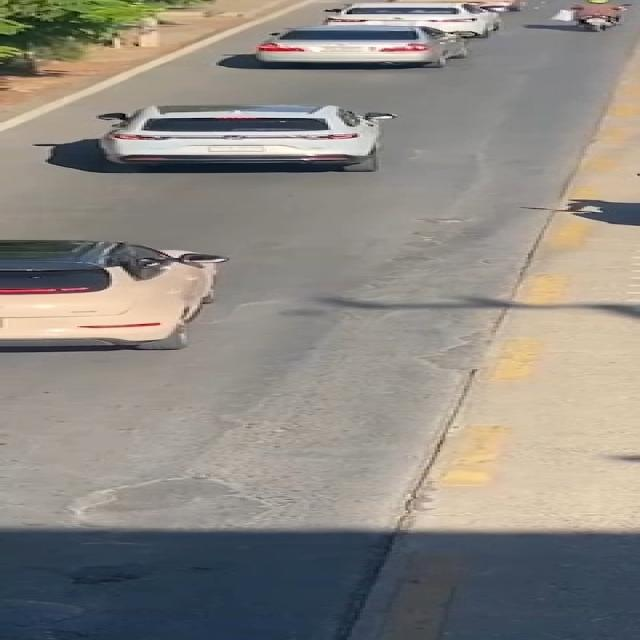car: (0, 226, 255, 368), (65, 96, 461, 176), (232, 21, 480, 72)
